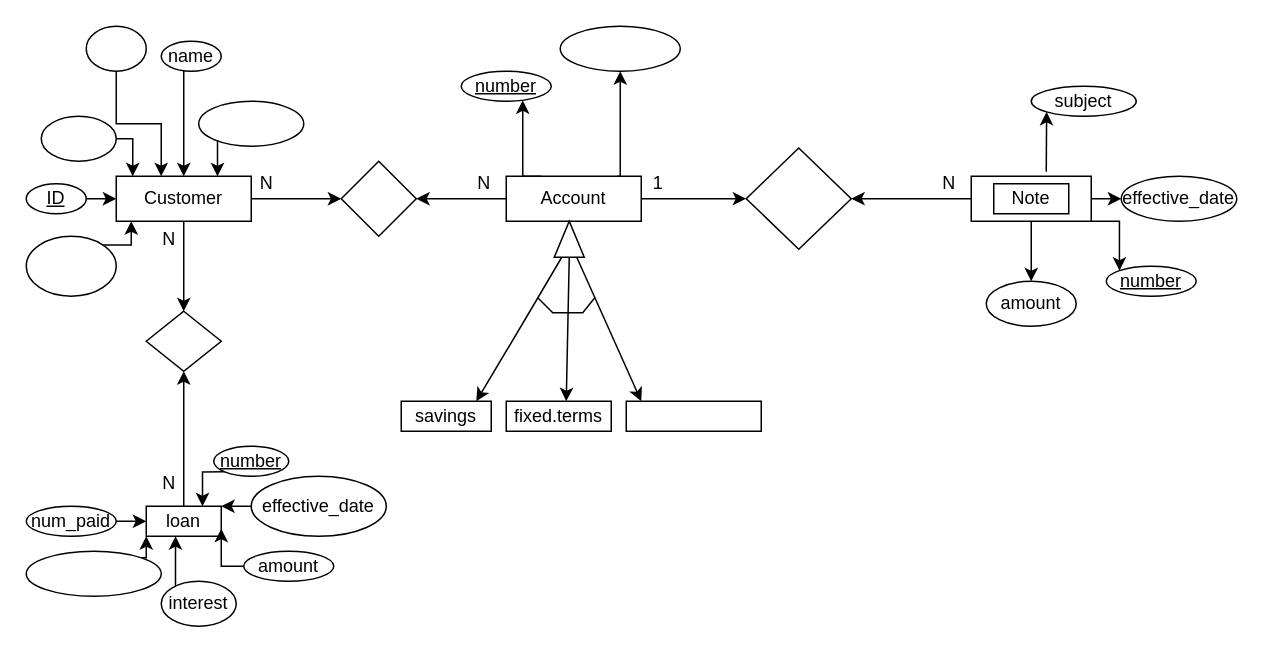
The diagram is 1263 pixels wide and 653 high, and some of its shapes have lost their labels. The box of each missing label's shape, as (x1, y1, x2, y2) in pixels:
address: (40, 115, 116, 161)
belongs_to: (745, 147, 851, 249)
city: (85, 25, 146, 71)
current.account: (625, 400, 761, 431)
grants: (145, 310, 221, 371)
has: (340, 160, 416, 236)
num_payments: (25, 550, 161, 596)
opening_date: (559, 25, 680, 71)
telephone: (197, 100, 304, 146)
zip _code: (25, 235, 116, 296)
